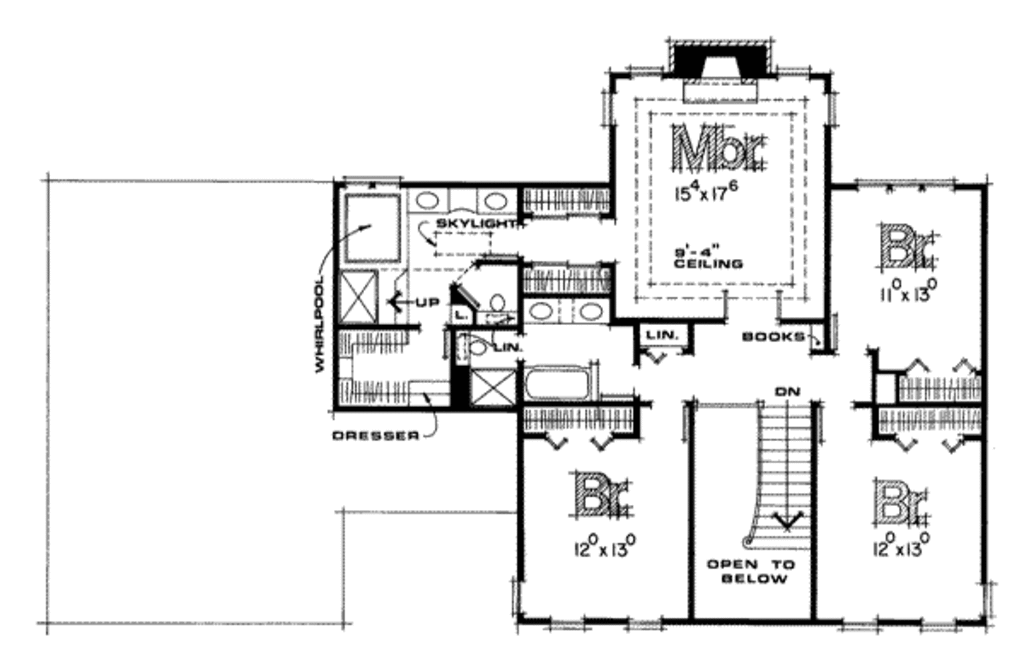large_sink: (476, 291, 520, 330), (458, 330, 492, 367)
small_sink: (403, 180, 520, 219), (514, 295, 612, 327)
stairs: (741, 385, 814, 555)
tub: (334, 182, 407, 267), (520, 363, 595, 402)
window: (854, 174, 959, 197), (623, 64, 667, 85), (773, 66, 815, 88), (920, 616, 962, 638), (542, 616, 587, 635), (839, 616, 883, 635), (622, 616, 667, 633)
